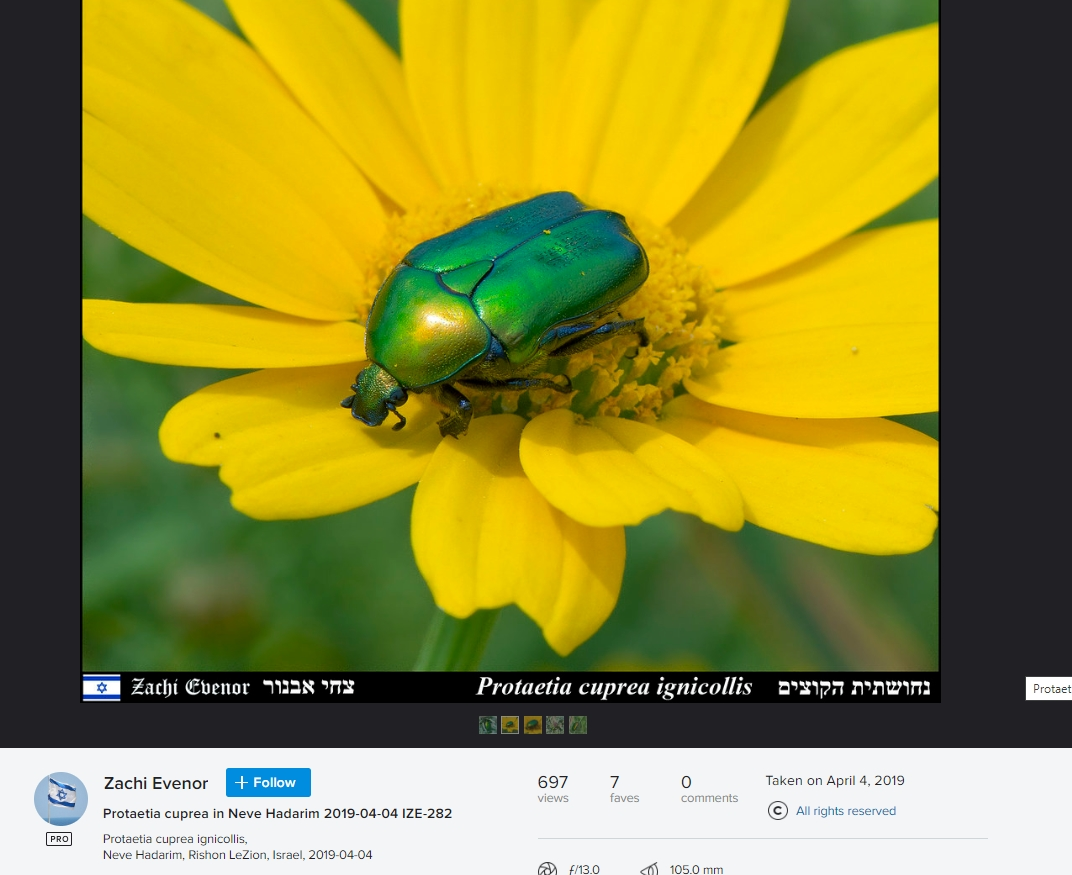Protaetia_cuprea_ignicollis: (342, 182, 658, 442)
